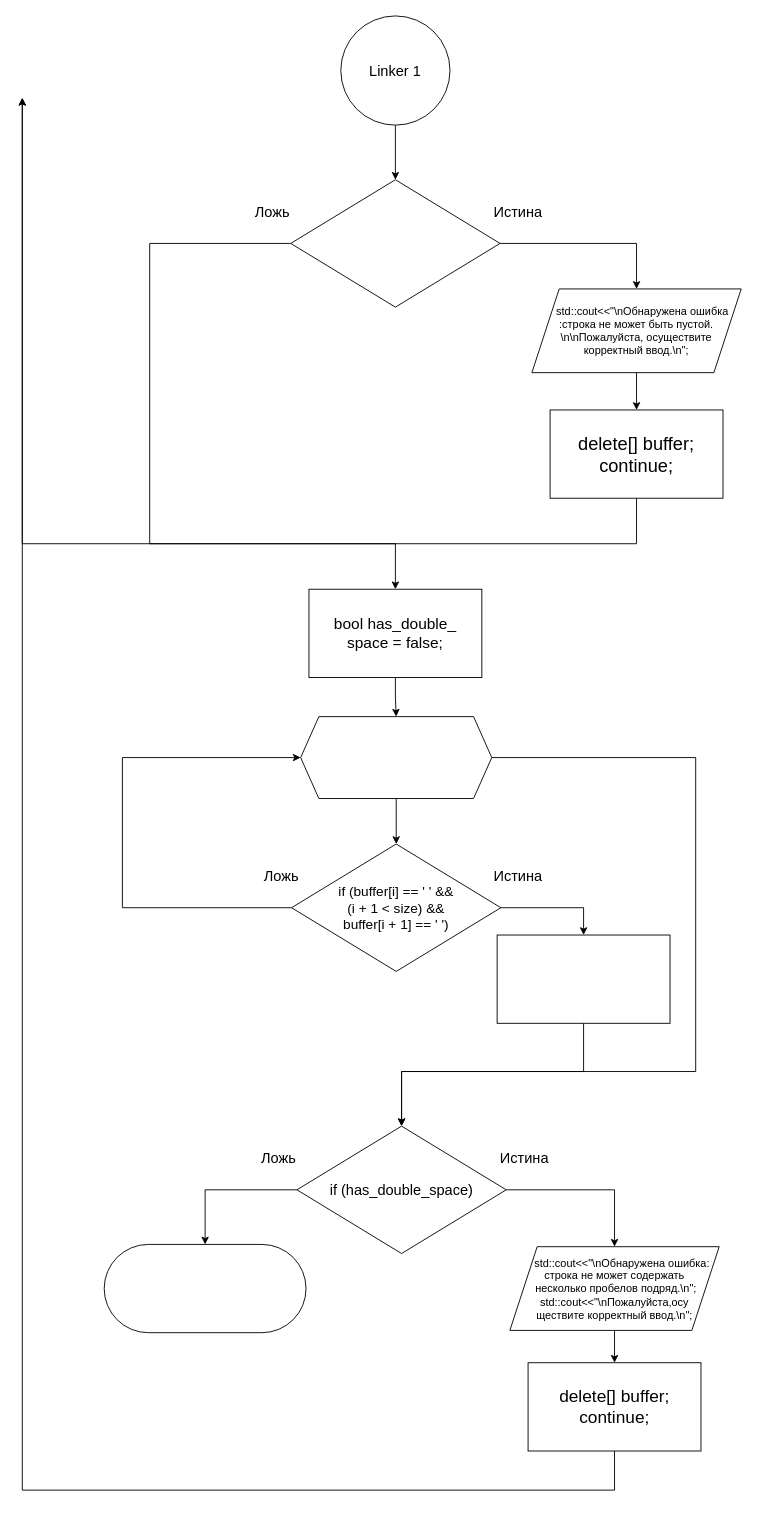
The diagram is 757 pixels wide and 1513 high, and some of its shapes have lost their labels. The centre of each missing label's shape, as x and y in pixels:
for (unsigned long i = 0; i < size; ++i): [396,757]
has_double_space = true; break;: [583,978]
if (size == 0): [395,243]
return buffer;: [204,1288]
